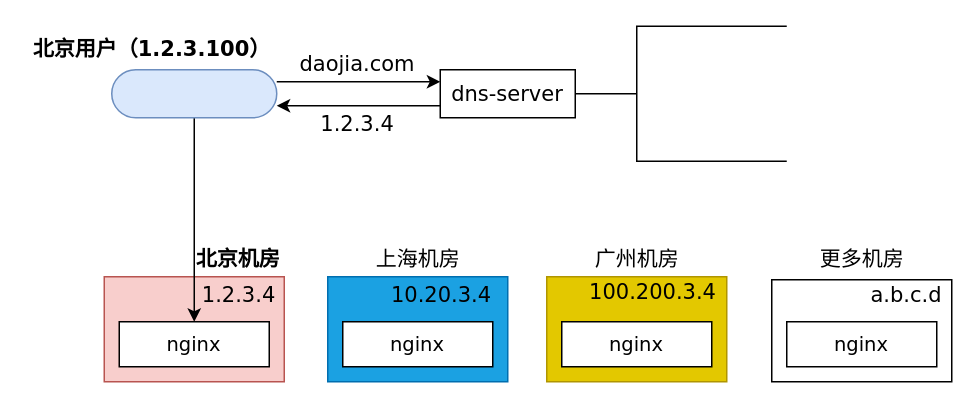
This 978x408 diagram has some shape labels left out. Each missing label, with the box of its shape:
browser/app: (110, 68, 277, 118)
daojia.com： 北京用户->1.2.3.4 上海用户->10.20.3.4 广州用户->100.200.3.4 xx用户->a.b.c.d: (635, 25, 787, 161)
